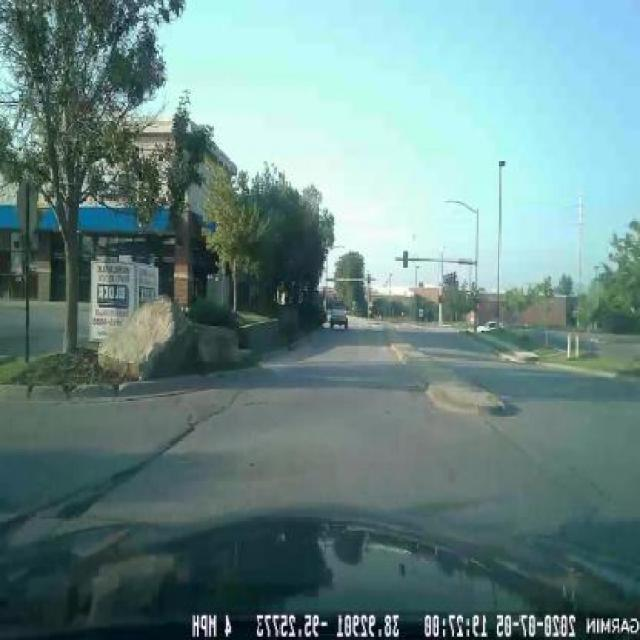pothole: (49, 487, 100, 529), (103, 453, 148, 493)
